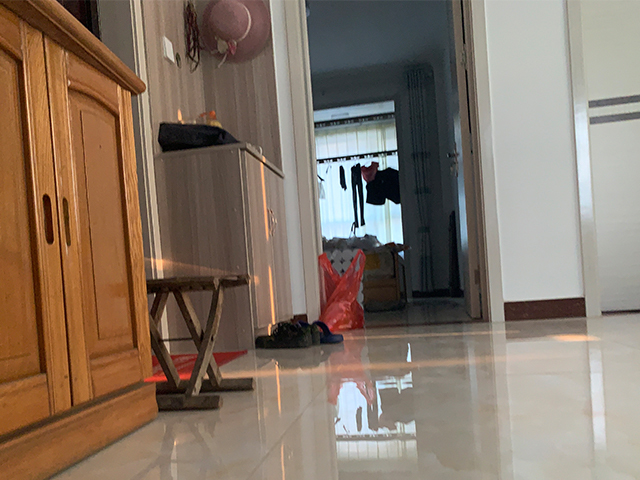cabinet: (1, 1, 163, 480), (152, 140, 295, 354)
carpet: (144, 349, 252, 382)
curtain: (402, 66, 442, 293)
slippers: (313, 320, 344, 345)
stool: (147, 273, 256, 412)
